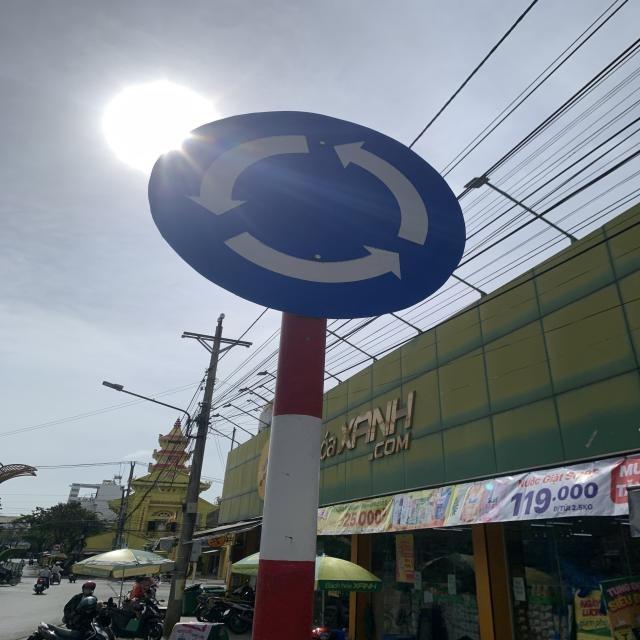Xe_Bus: (150, 109, 468, 322)
